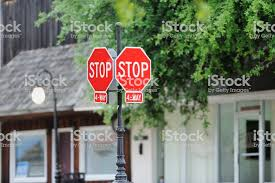Stop: (108, 48, 160, 100)
